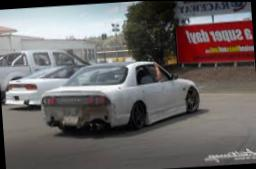Bumper: (44, 103, 112, 131)
